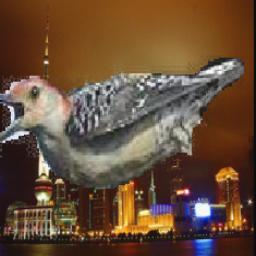Woodpecker: (0, 56, 244, 190)
